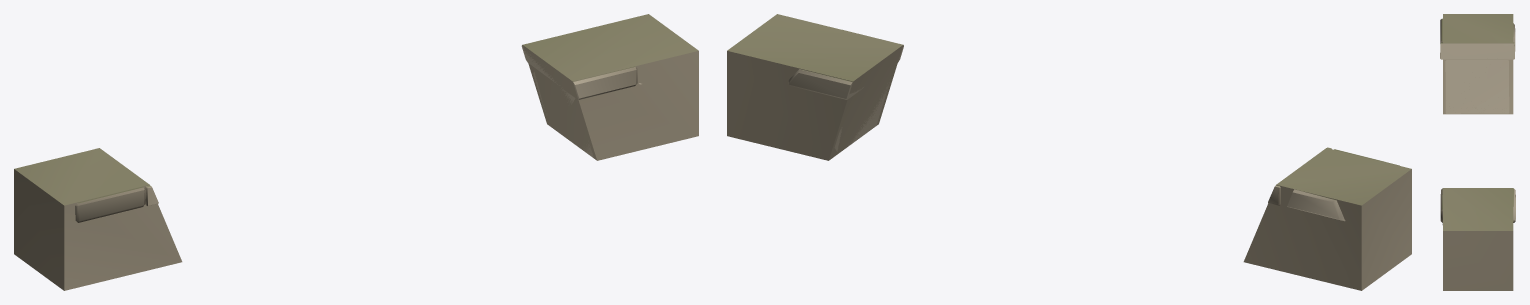
File: street_lintel_cross_snapped.glb
3 renders of one model, left to right at view 1: azimuth 30°, elevation 25°; view 2: azimuth 150°, elevation 25°; view 3: azimuth 270°, elevation 25°, orthographic. The views are drawn at different scales.
Visible parts, largest first — view 1: street_lintel_cross_snapped_far, street_lintel_cross_snapped; view 2: street_lintel_cross_snapped_far, street_lintel_cross_snapped; view 3: street_lintel_cross_snapped_far, street_lintel_cross_snapped.
Part boxes in pixels (x1,y1,x2,y2): street_lintel_cross_snapped_far: (14, 14, 698, 290); street_lintel_cross_snapped: (75, 45, 641, 222); street_lintel_cross_snapped_far: (727, 14, 1411, 290); street_lintel_cross_snapped: (788, 29, 1399, 221); street_lintel_cross_snapped_far: (1443, 14, 1513, 290); street_lintel_cross_snapped: (1440, 18, 1515, 224).
Size of the model in its own units: 23.34 by 3 by 3.44.
